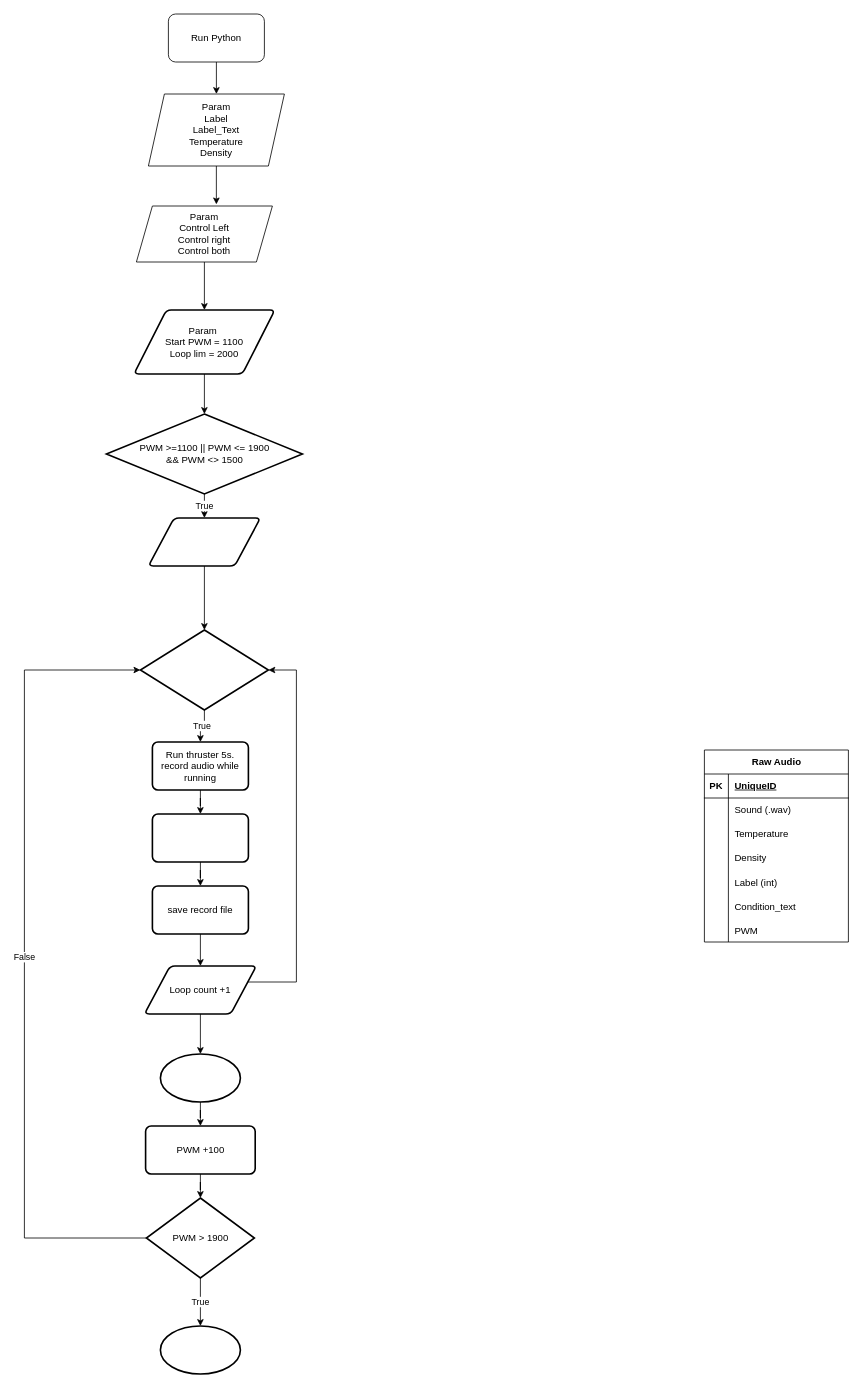
Some shapes in this 862 by 1389 pixel diagram are drawn without their labels. Here are the shapes that lost their labels. From the top down, the centre of each, then its label:
At [204,541]: "Loop count = 1".
At [204,669]: "Loop <= Loop lim".
At [200,837]: "Stop thruster".
At [200,1077]: "Finish 1 PWM cycle".
At [200,1349]: "End loop".
